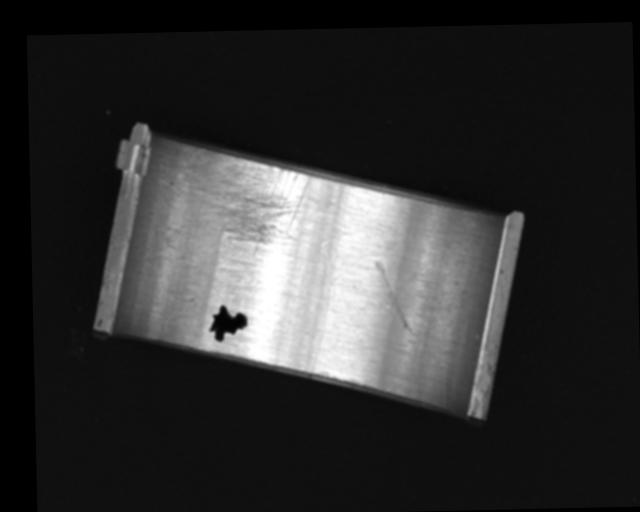blot: (207, 304, 248, 343)
nick: (307, 242, 336, 374), (374, 258, 414, 337)
scratch: (186, 143, 313, 258)
